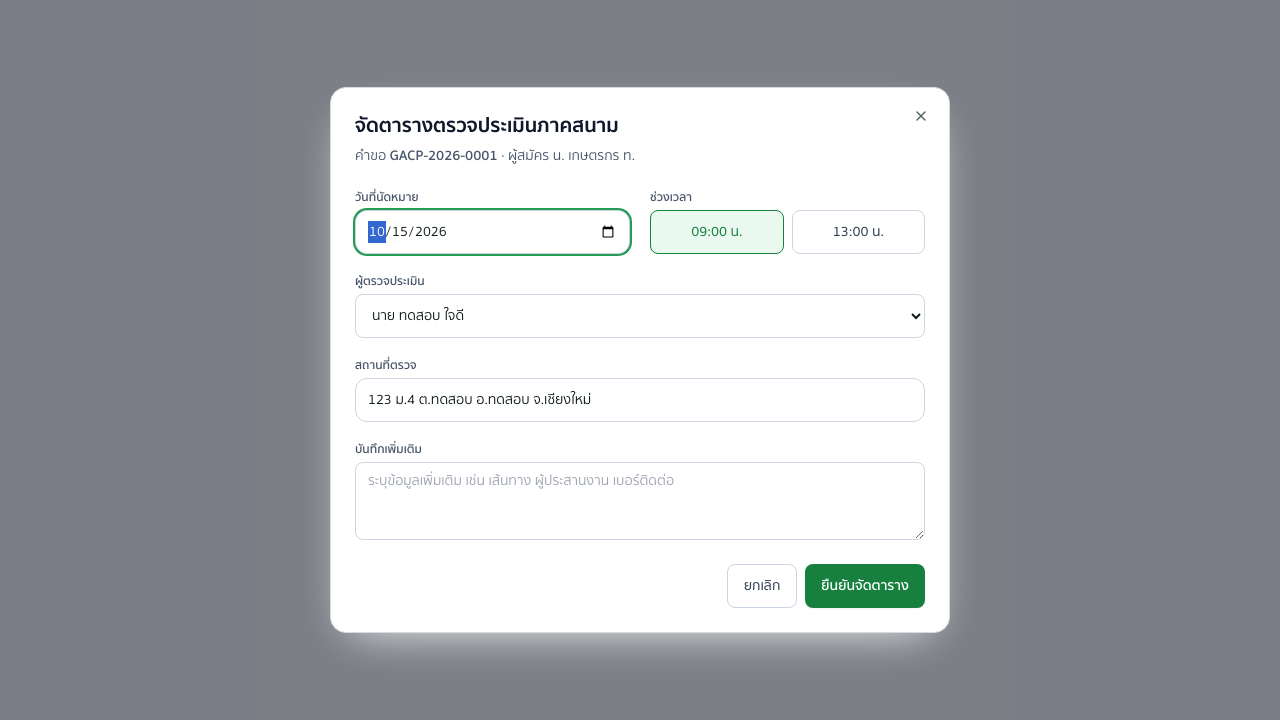
AssignAuditorModal — V2-C SC-1/SC-4/SC-5 functional › SC-5: amber-shades calendar cells flagged in overCapDays
Select "นาย ทดสอบ ใจดี" in the dropdown with id "assign-auditor" at [640, 316], box 355,294 -> 925,338
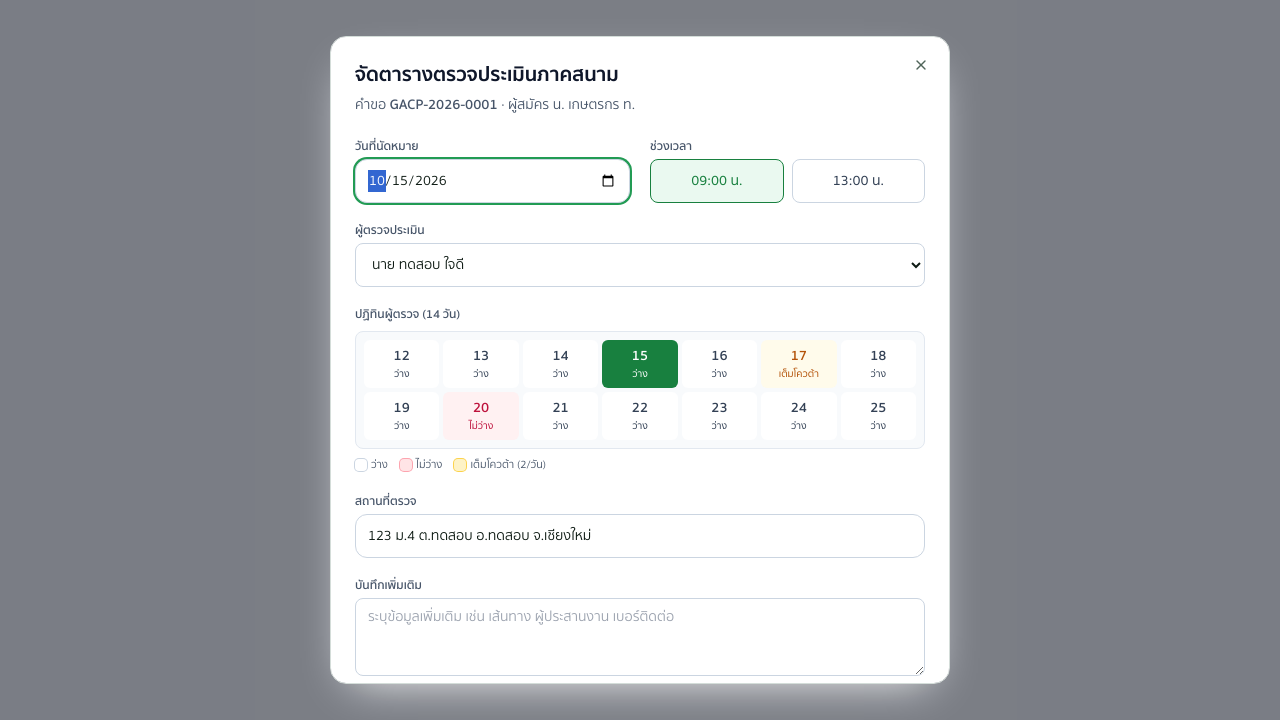
Result: the text "เต็มโควต้า" is shown at 779,366 -> 819,382
